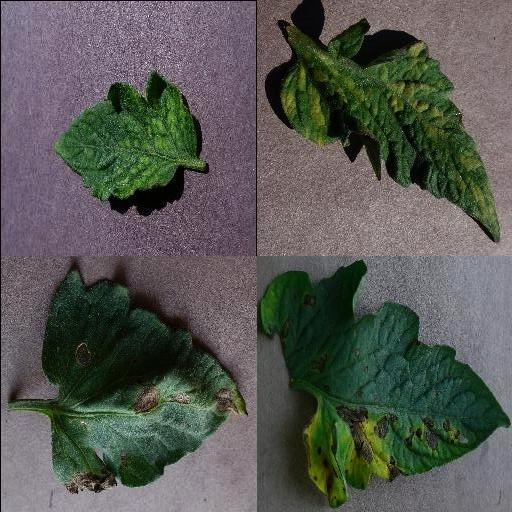Early Blight: (256, 258, 510, 508), (39, 270, 247, 494)
Leaf Mold: (280, 21, 500, 244)
Mosaic Virus: (55, 68, 197, 200)
